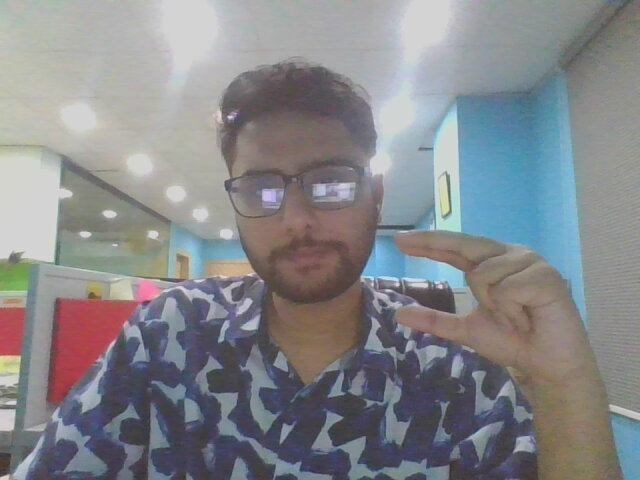no: (389, 215, 613, 391)
